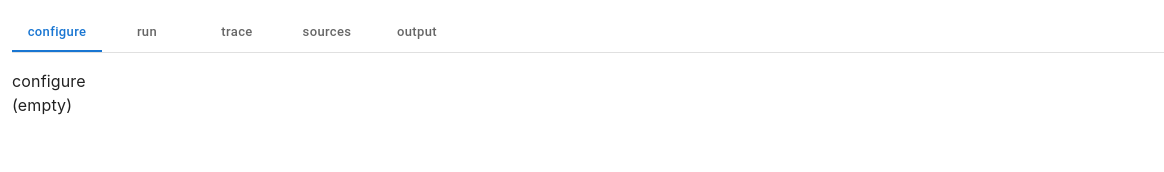
Test case: Phase 7 workspace tab contracts › agent tabs persist in the URL
Expected: the text with test id "tab-value" reads "configure", [12,71,86,91]
Click the tab "output" at (417, 32), box [372,12,462,52]
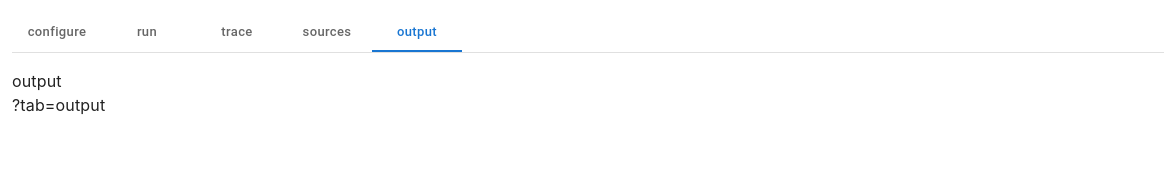
Expected: the text with test id "tab-value" reads "output", [12,71,62,91]
